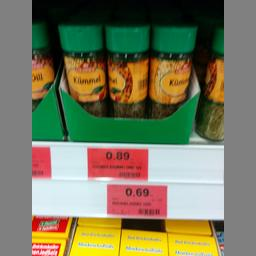spices: (58, 22, 108, 116), (148, 24, 196, 117), (106, 22, 148, 116)
